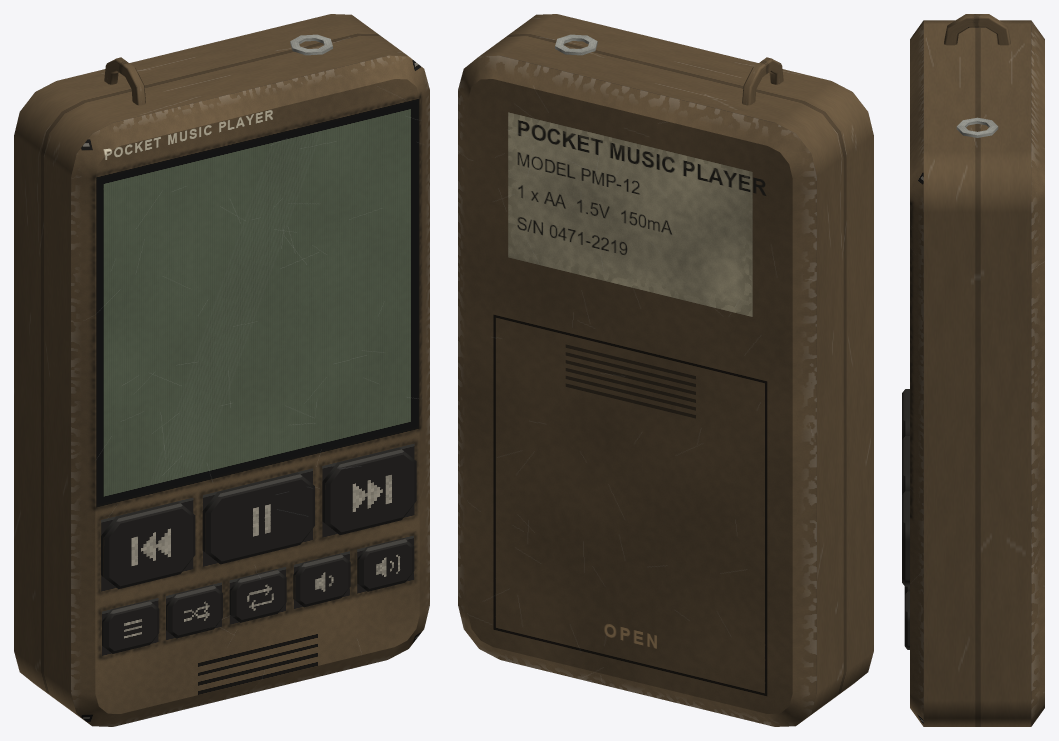
The model's file is pocket-player.obj.
3 views of the same model, side by side, from view 1: azimuth 30°, elevation 25°; view 2: azimuth 150°, elevation 25°; view 3: azimuth 270°, elevation 25° (orthographic). The views are drawn at different scales.
Bounding box in the file's own units: 0.064 × 0.1081 × 0.0233.
Materials: 1 (1 with a texture image).
